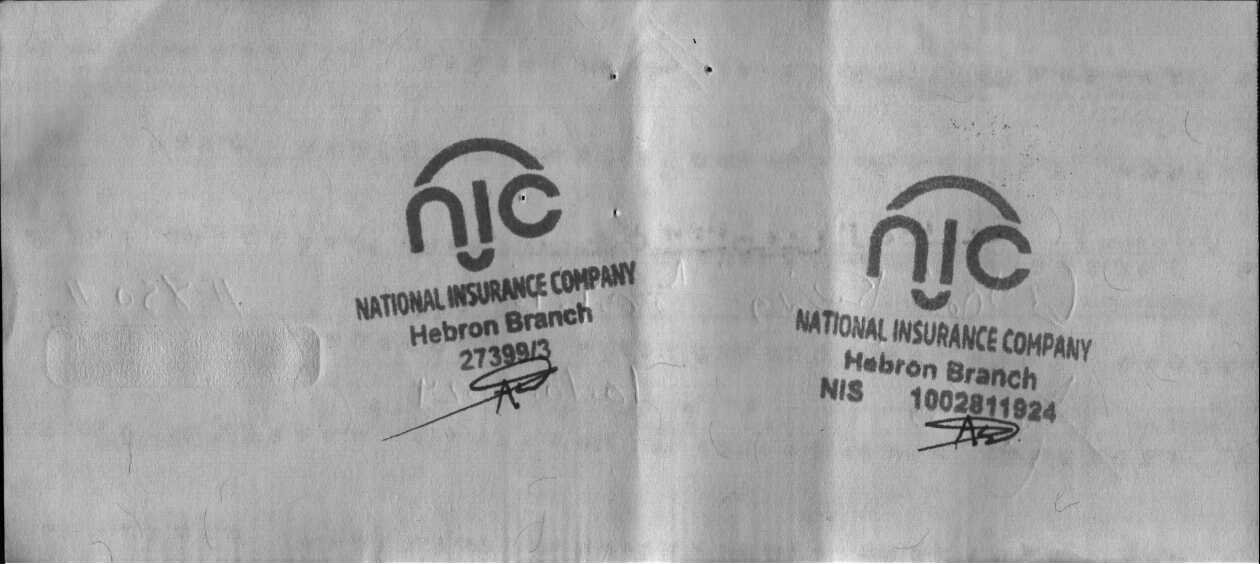stamp: (787, 172, 1101, 431), (348, 130, 645, 378)
